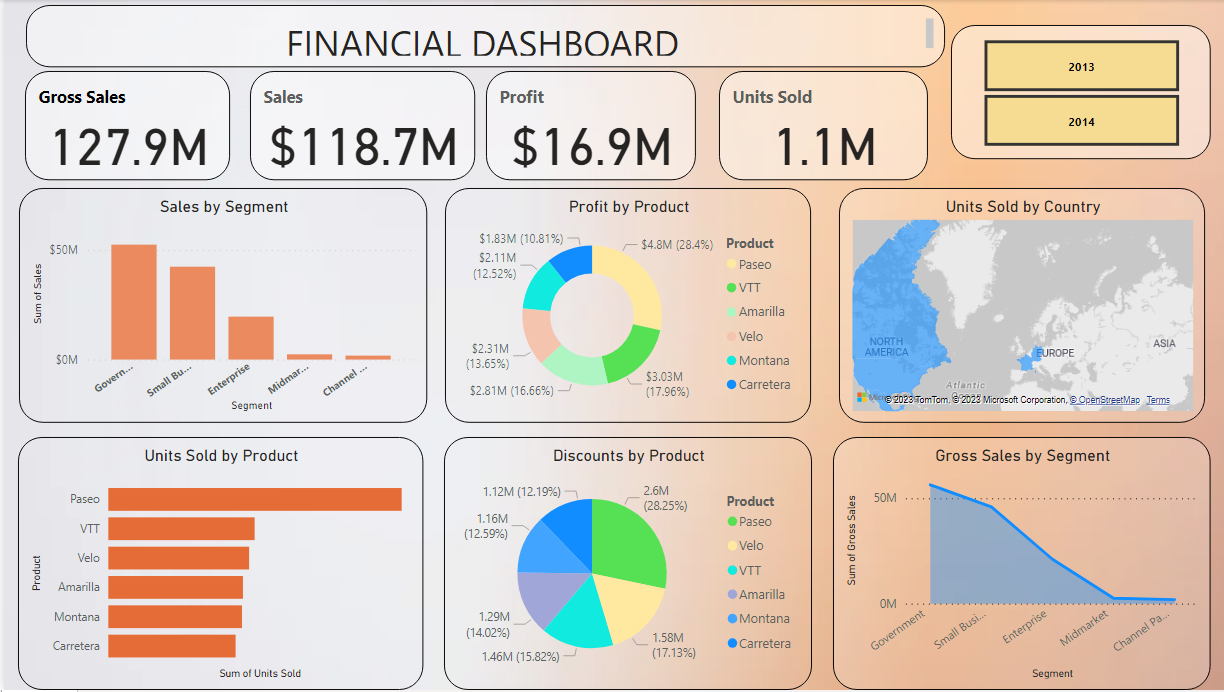

The page's visual inventory and layout, read from the dashboard file:
{"tool":"powerbi","page":{"name":"Page 1","canvas":[1280,720],"ordinal":0},"visuals":[{"type":"card","fields":{"Values":["Sum(financials.Gross Sales)"]},"box":[22,73.6,214.2,114.3],"z":0},{"type":"card","fields":{"Values":["Sum(financials. Sales)"]},"box":[256.2,73.8,235,113.8],"z":1000},{"type":"card","fields":{"Values":["Sum(financials.Profit)"]},"box":[502.5,73.8,218.8,113.8],"z":2000},{"type":"card","fields":{"Values":["Sum(financials.Units Sold)"]},"box":[746.2,73.8,217.5,113.8],"z":3000},{"type":"clusteredColumnChart","title":"Sales by Segment","fields":{"Category":["financials.Segment"],"Y":["Sum(financials. Sales)"]},"box":[15.4,196.7,426.3,245],"z":4000},{"type":"clusteredBarChart","title":"Units Sold by Product","fields":{"Y":["Sum(financials.Units Sold)"],"Category":["financials.Product"]},"box":[15,456.2,422.5,263.8],"z":5000},{"type":"pieChart","title":"Discounts by Product","fields":{"Category":["financials.Product"],"Y":["Sum(financials.Discounts)"]},"box":[458.8,456.2,383.8,263.8],"z":6000},{"type":"donutChart","title":"Profit by Product","fields":{"Y":["Sum(financials.Profit)"],"Category":["financials.Product"]},"box":[460.4,196.7,382.4,245],"z":7000},{"type":"stackedAreaChart","title":"Gross Sales by Segment","fields":{"Y":["Sum(financials.Gross Sales)"],"Category":["financials.Segment"]},"box":[865,456.2,393.8,263.8],"z":8000},{"type":"filledMap","title":"Units Sold by Country","fields":{"Category":["financials.Country"]},"box":[871.3,196.7,382.4,245],"z":9000},{"type":"slicer","fields":{"Values":["financials.Year"]},"box":[988.5,25.8,270.7,140.4],"z":10000},{"type":"textbox","box":[22.5,5,958.8,65],"z":11000}]}

Visuals, with their boxes in screenshot pixels (x1, y1, x2, y2), scaled from the page's 1280x720 canvas onto the 1224x692 screenshot:
card - Sum(financials.Gross Sales): bbox(21, 71, 226, 181)
card - Sum(financials. Sales): bbox(245, 71, 470, 180)
card - Sum(financials.Profit): bbox(481, 71, 690, 180)
card - Sum(financials.Units Sold): bbox(714, 71, 922, 180)
"Sales by Segment" clusteredColumnChart: bbox(15, 189, 422, 425)
"Units Sold by Product" clusteredBarChart: bbox(14, 438, 418, 691)
"Discounts by Product" pieChart: bbox(439, 438, 806, 691)
"Profit by Product" donutChart: bbox(440, 189, 806, 425)
"Gross Sales by Segment" stackedAreaChart: bbox(827, 438, 1204, 691)
"Units Sold by Country" filledMap: bbox(833, 189, 1199, 425)
slicer - financials.Year: bbox(945, 25, 1204, 160)
textbox: bbox(22, 5, 938, 67)
